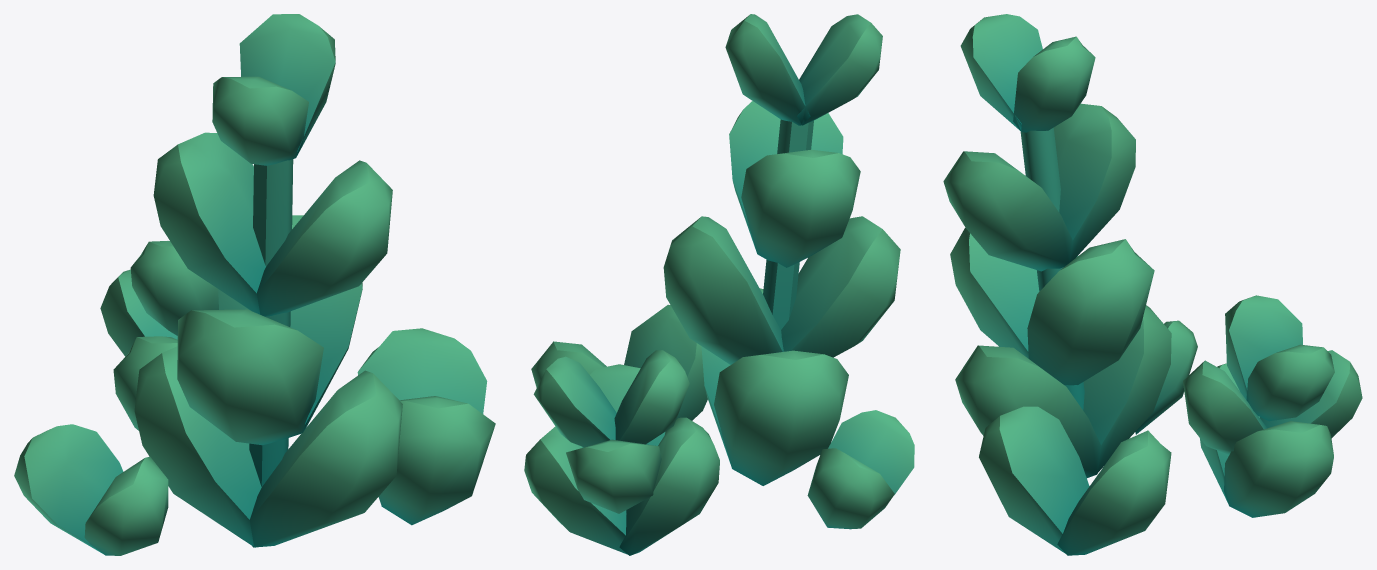
3 renders of one model, left to right at view 1: azimuth 30°, elevation 25°; view 2: azimuth 150°, elevation 25°; view 3: azimuth 270°, elevation 25°, orthographic. The views are drawn at different scales.
Parts seen in each view (by area): view 1: LOD 1_13142735058292916171_864aa3741cb91814880953315ea2c192; view 2: LOD 1_13142735058292916171_864aa3741cb91814880953315ea2c192; view 3: LOD 1_13142735058292916171_864aa3741cb91814880953315ea2c192.
Part boxes in pixels (x1=…): LOD 1_13142735058292916171_864aa3741cb91814880953315ea2c192: x1=14, y1=14, x2=495, y2=555; LOD 1_13142735058292916171_864aa3741cb91814880953315ea2c192: x1=524, y1=14, x2=914, y2=555; LOD 1_13142735058292916171_864aa3741cb91814880953315ea2c192: x1=943, y1=14, x2=1362, y2=555.
Size of the model in its own units: 0.6529 by 0.7995 by 0.6565.
